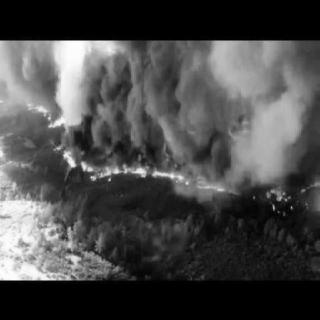Fire: (53, 143, 237, 197)
Smoke: (82, 41, 306, 141)
